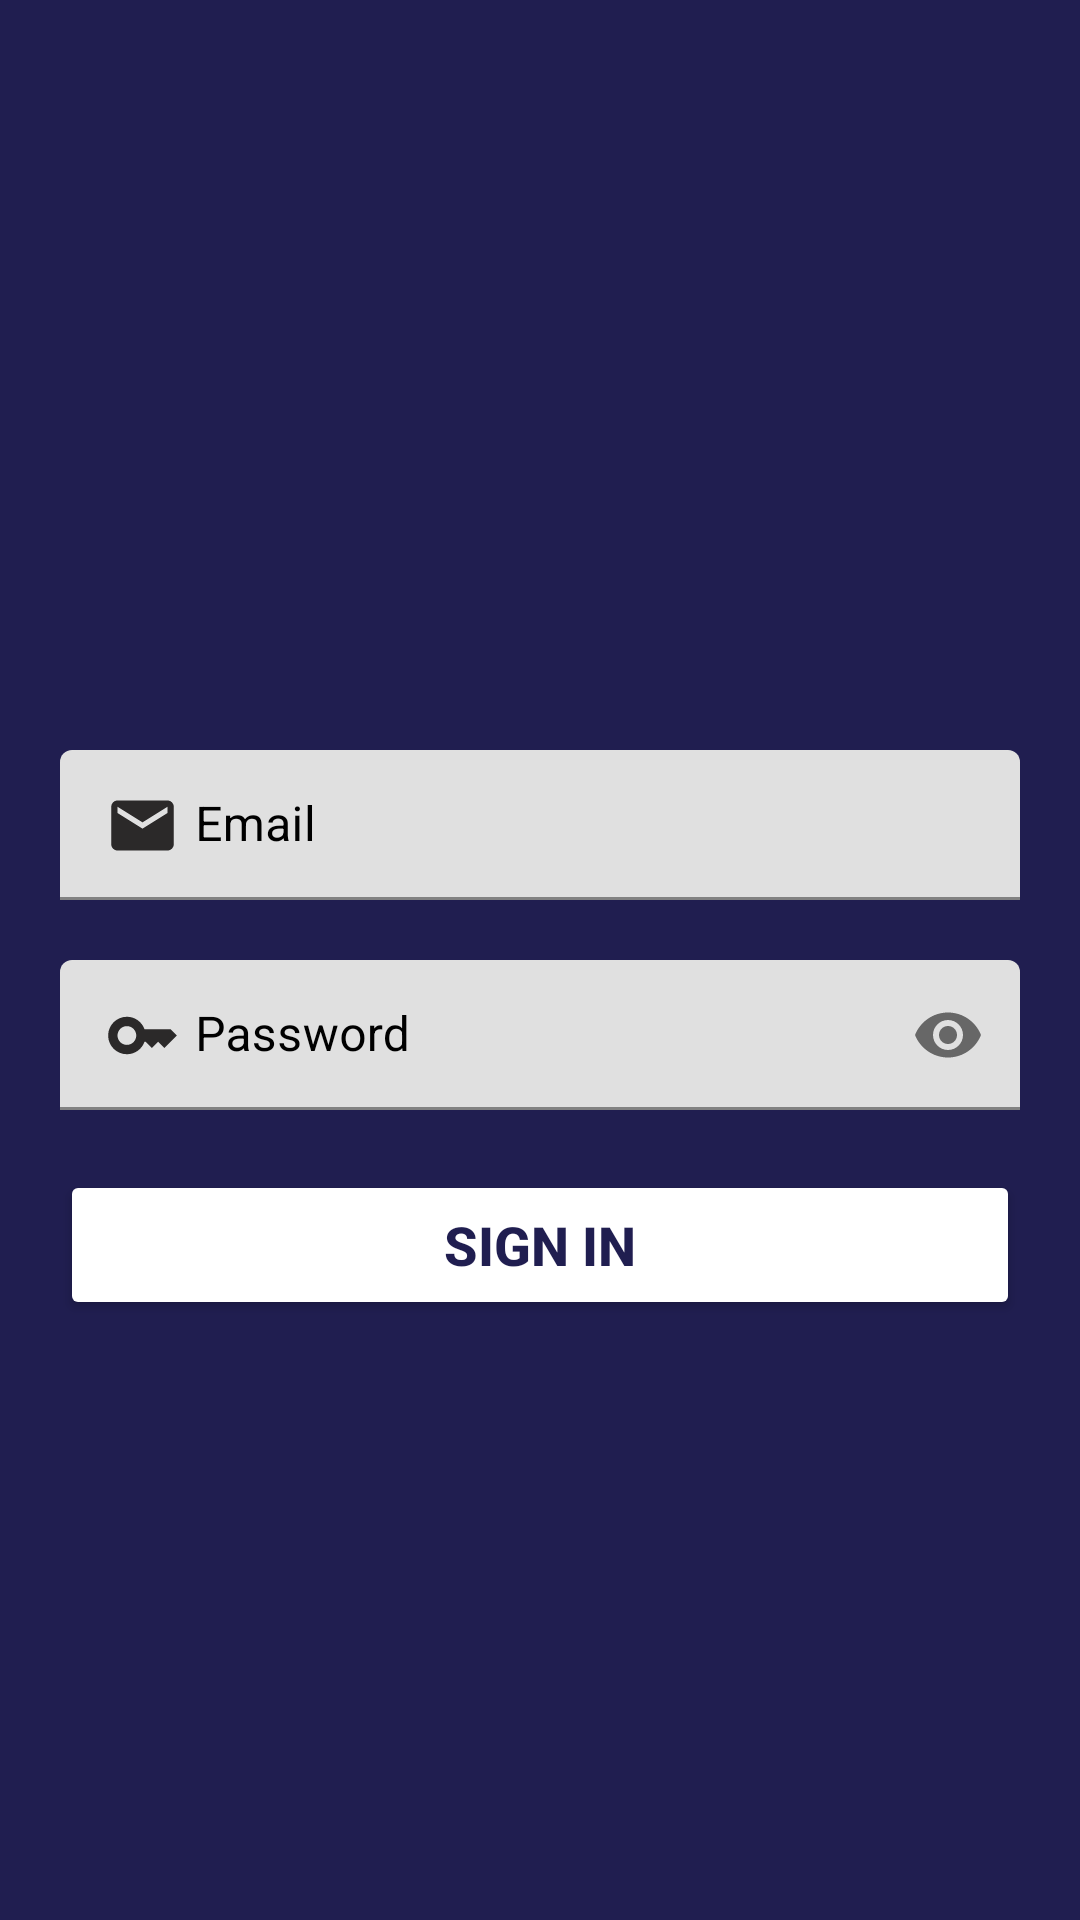

Screen size 1080px x 1920px. Icon name, then its box in pixels as (x1, y1, x2, y2):
Key Icon: (108, 1016, 177, 1055)
